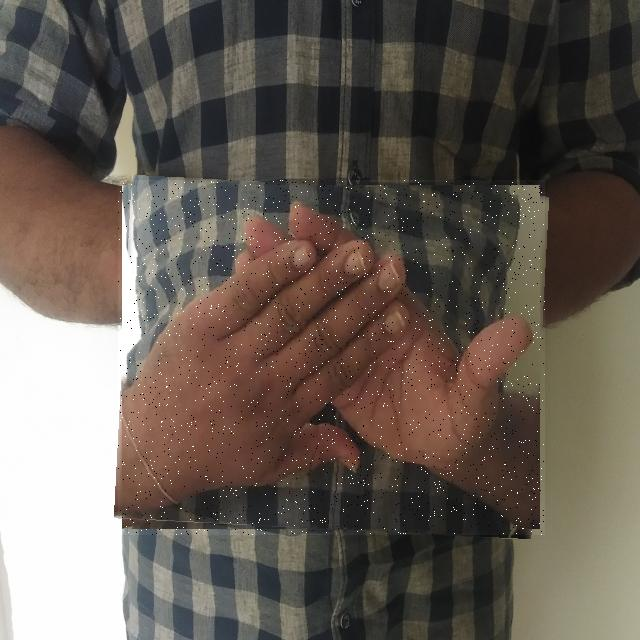H: (118, 180, 545, 535)
